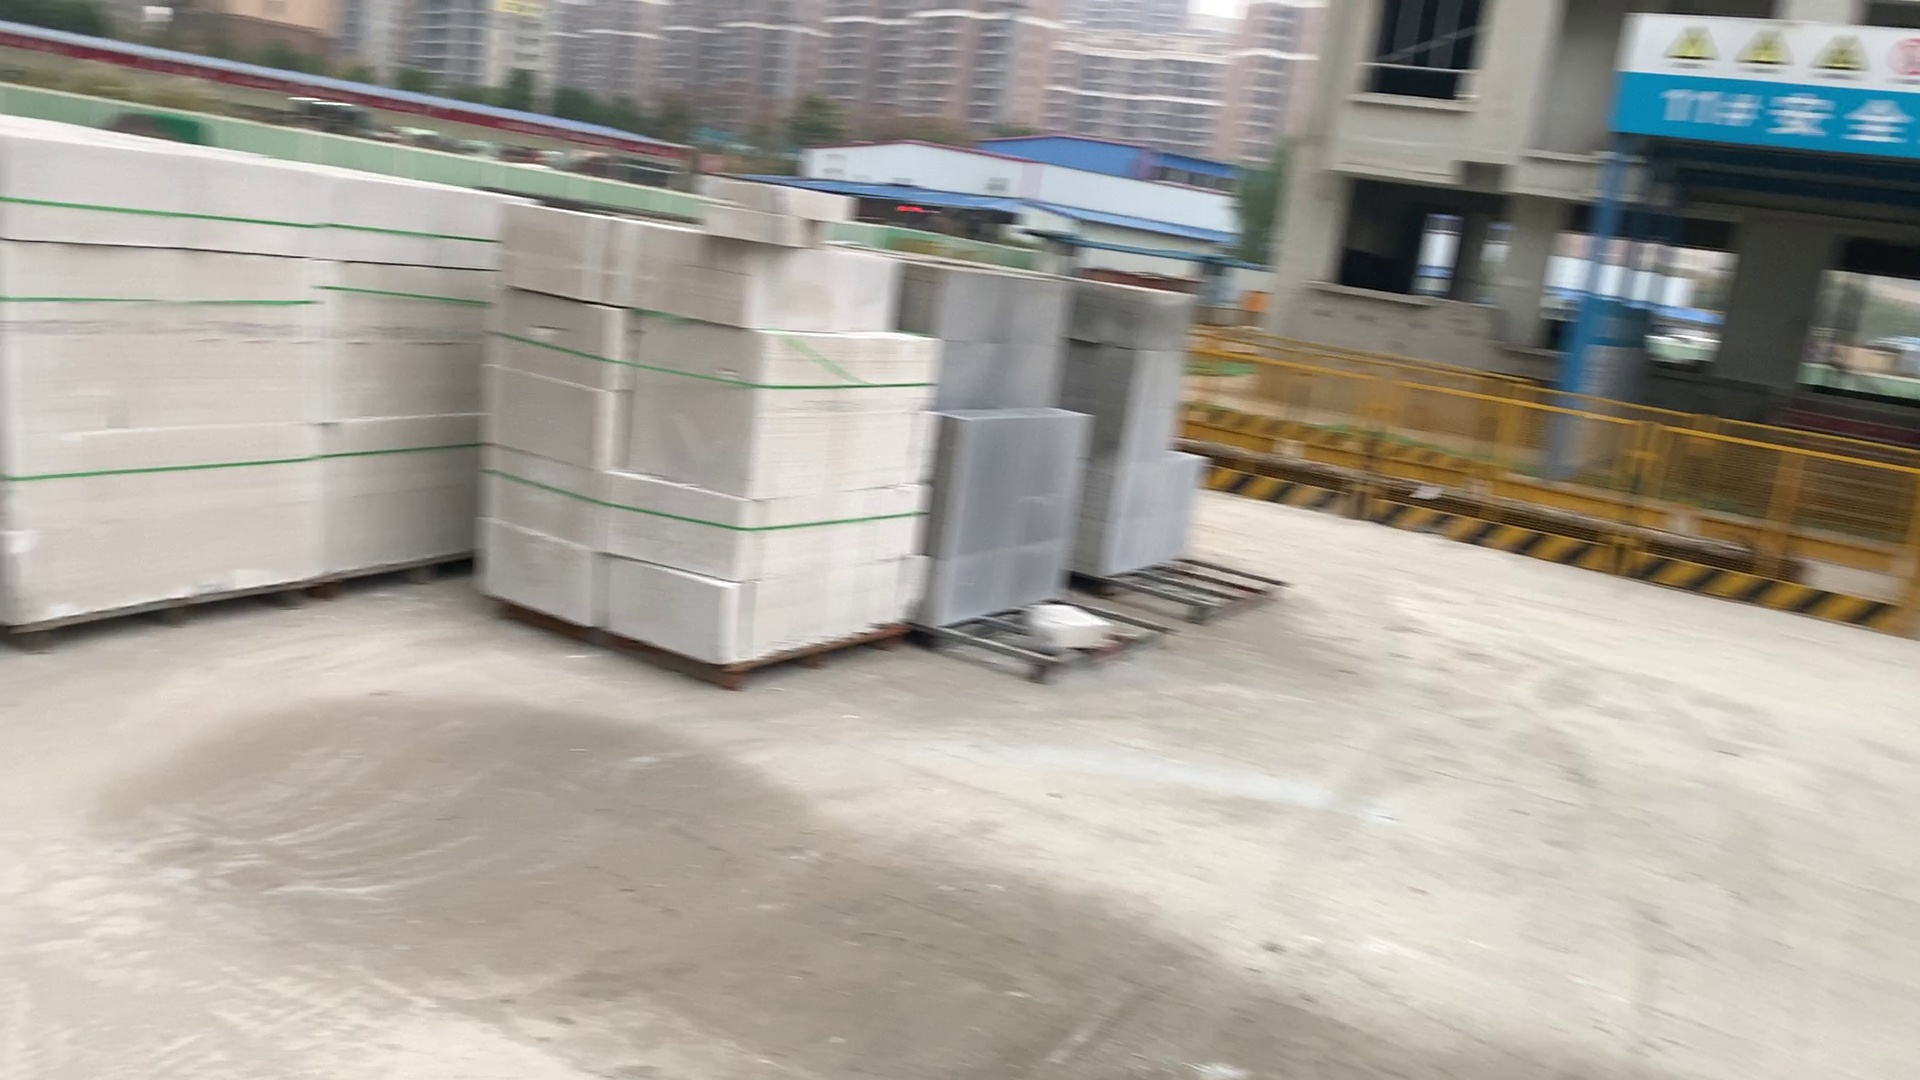brickwork: (1, 135, 506, 626), (491, 199, 910, 692), (895, 236, 1083, 650), (1060, 272, 1258, 599)
